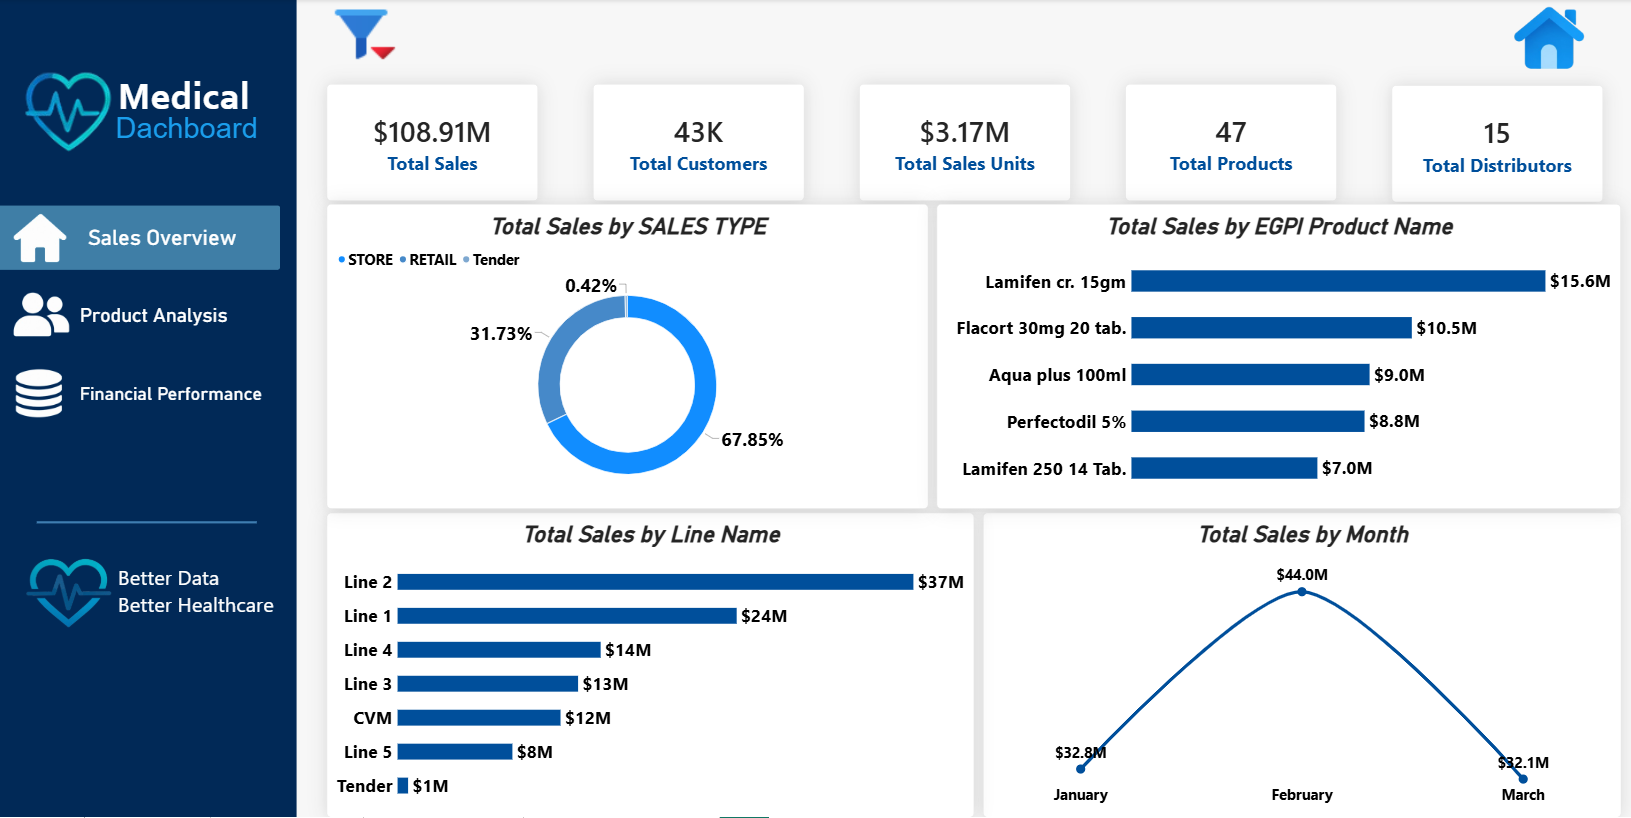

Layout of this report page (visuals, bound fields, positions):
{"tool":"powerbi","page":{"name":"Sales Overview","canvas":[3000,1500],"ordinal":1},"visuals":[{"type":"card","fields":{"Values":["Table.Total Sales"]},"box":[601.5,155.9,387.4,214.1],"z":0},{"type":"card","fields":{"Values":["Table.Total Sales Units"]},"box":[1577.5,155.9,387.4,214.1],"z":1000},{"type":"card","fields":{"Values":["Table.Total Products"]},"box":[2065.5,155.9,387.4,214.1],"z":2000},{"type":"card","fields":{"Values":["Table.Total Customers"]},"box":[1089.5,155.9,387.4,214.1],"z":3000},{"type":"card","fields":{"Values":["Table.Total Distributors"]},"box":[2553.4,158.3,387.4,214.1],"z":4000},{"type":"actionButton","box":[0,0,547.2,1500.5],"z":5000},{"type":"image","box":[47.9,131.1,166.4,151.3],"z":6000},{"type":"textbox","box":[219.4,133.7,259.8,88.3],"z":7000},{"type":"textbox","box":[214.4,206.8,269.8,90.8],"z":8000},{"type":"actionButton","box":[0,378.3,517,118.5],"z":9000},{"type":"actionButton","box":[0,520.8,517,118.5],"z":10000},{"type":"actionButton","box":[0,663.3,517,118.5],"z":11000},{"type":"image","box":[27.7,390.9,103.4,95.8],"z":12000},{"type":"image","box":[25.2,532.1,111,95.8],"z":13000},{"type":"image","box":[18.8,672.9,111,95.8],"z":14000},{"type":"shape","box":[70.9,929.3,403.5,58],"z":15000},{"type":"image","box":[0,973.4,259.8,221.9],"z":16000},{"type":"textbox","box":[219.4,1034,302.6,108.4],"z":17000},{"type":"lineChart","fields":{"Category":["Sales Performance.Month.Variation.Date Hierarchy.Month"],"Y":["Table.Total Sales"]},"box":[1804.6,940.8,1169.4,558.2],"z":19000},{"type":"clusteredBarChart","fields":{"Category":["Sales Performance.Line Name"],"Y":["Table.Total Sales"]},"box":[601.5,940.8,1186.2,558.2],"z":20000},{"type":"donutChart","fields":{"Category":["Sales Performance.SALES TYPE"],"Y":["Table.Total Sales"]},"box":[601.5,375.4,1102,558.2],"z":21000},{"type":"barChart","fields":{"Category":["Sales Performance.EGPI Product Name"],"Y":["Table.Total Sales"]},"box":[1720.4,375.4,1253.6,558.2],"z":22000},{"type":"image","box":[603.3,0,139.6,132.3],"z":23000},{"type":"image","box":[2766.5,2.3,150,131.3],"z":27000}]}

Visuals, with their boxes in screenshot pixels (x1, y1, x2, y2), scaled from the page's 3000x1500 canvas onto the 1631x818 screenshot:
card - Table.Total Sales: (x1=327, y1=85, x2=538, y2=202)
card - Table.Total Sales Units: (x1=858, y1=85, x2=1068, y2=202)
card - Table.Total Products: (x1=1123, y1=85, x2=1334, y2=202)
card - Table.Total Customers: (x1=592, y1=85, x2=803, y2=202)
card - Table.Total Distributors: (x1=1388, y1=86, x2=1599, y2=203)
actionButton: (x1=0, y1=0, x2=297, y2=817)
image: (x1=26, y1=71, x2=117, y2=154)
textbox: (x1=119, y1=73, x2=261, y2=121)
textbox: (x1=117, y1=113, x2=263, y2=162)
actionButton: (x1=0, y1=206, x2=281, y2=271)
actionButton: (x1=0, y1=284, x2=281, y2=349)
actionButton: (x1=0, y1=362, x2=281, y2=426)
image: (x1=15, y1=213, x2=71, y2=265)
image: (x1=14, y1=290, x2=74, y2=342)
image: (x1=10, y1=367, x2=71, y2=419)
shape: (x1=39, y1=507, x2=258, y2=538)
image: (x1=0, y1=531, x2=141, y2=652)
textbox: (x1=119, y1=564, x2=284, y2=623)
lineChart - Sales Performance.Month.Variation.Date Hierarchy.Month x Table.Total Sales: (x1=981, y1=513, x2=1617, y2=817)
clusteredBarChart - Sales Performance.Line Name x Table.Total Sales: (x1=327, y1=513, x2=972, y2=817)
donutChart - Sales Performance.SALES TYPE x Table.Total Sales: (x1=327, y1=205, x2=926, y2=509)
barChart - Sales Performance.EGPI Product Name x Table.Total Sales: (x1=935, y1=205, x2=1617, y2=509)
image: (x1=328, y1=0, x2=404, y2=72)
image: (x1=1504, y1=1, x2=1586, y2=73)
